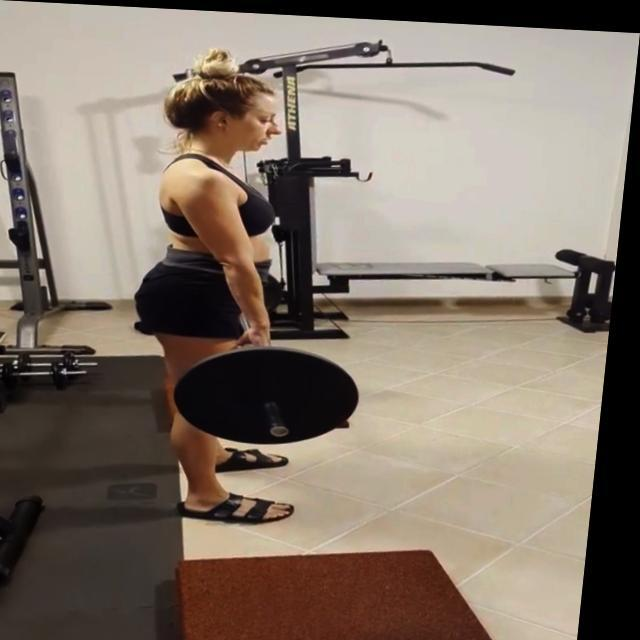barbell: (175, 336, 374, 447)
